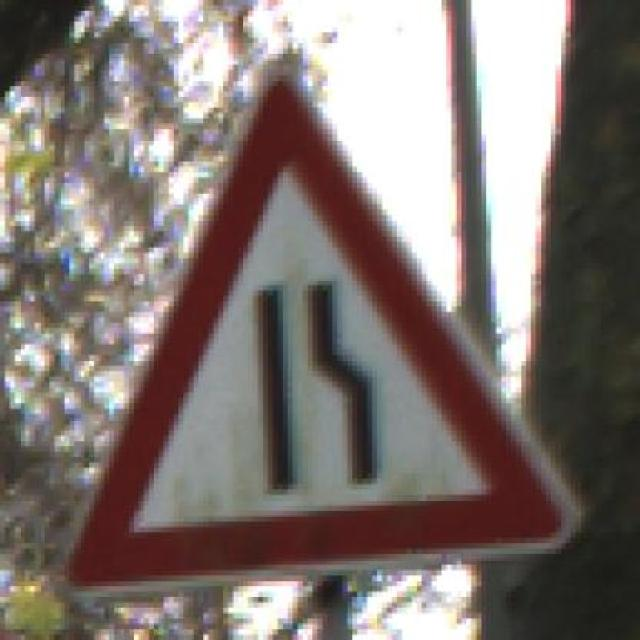-Road narrows on right: (45, 59, 600, 596)
